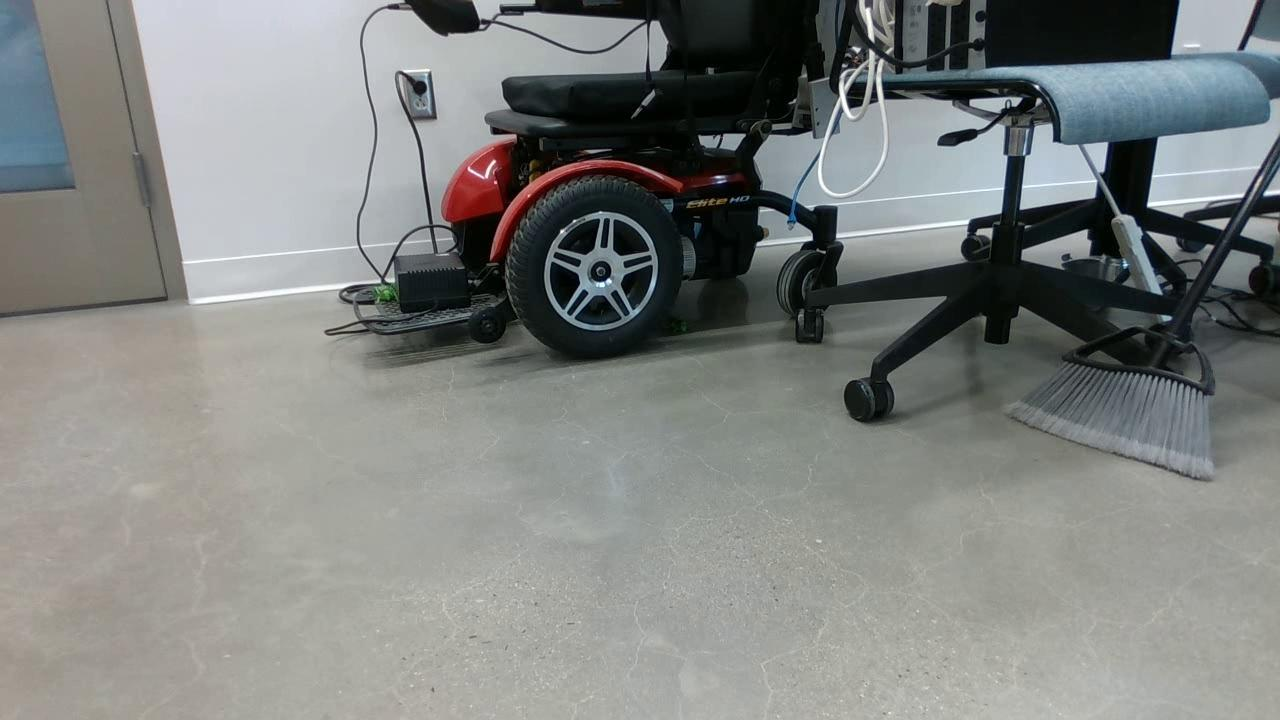grasshopper: (371, 287, 399, 303)
